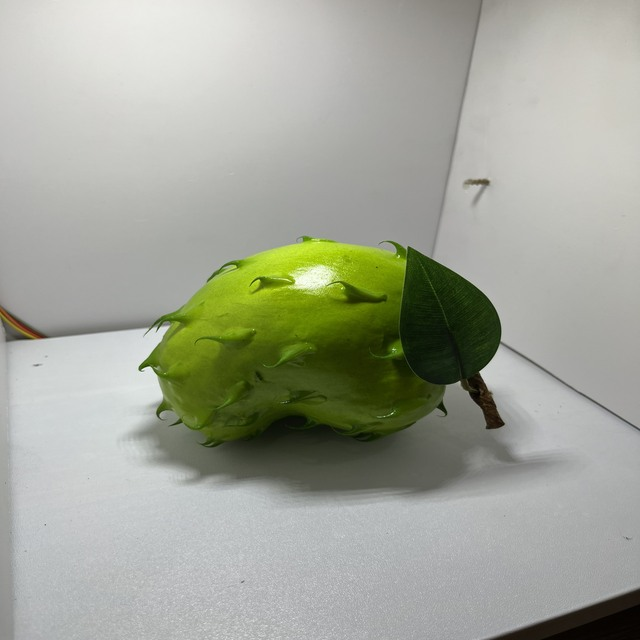Man cau: (132, 231, 468, 453)
